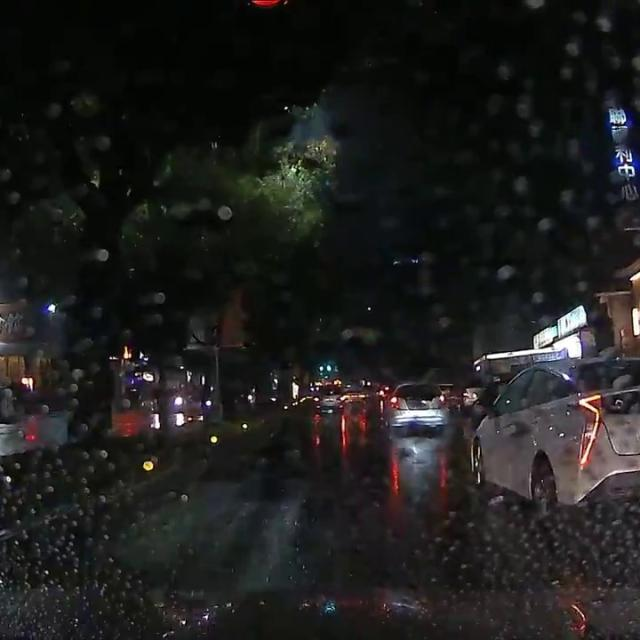Car: (466, 354, 639, 520), (376, 377, 448, 434), (311, 383, 344, 416), (341, 382, 365, 407)
